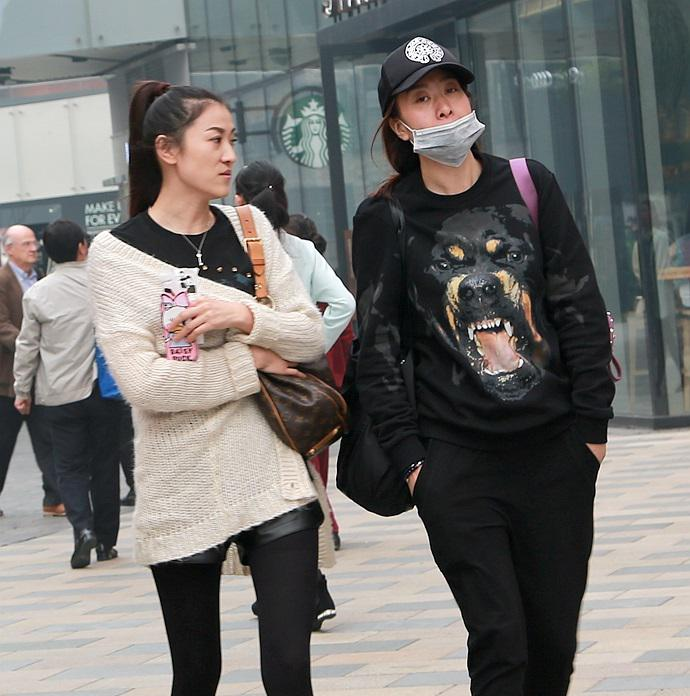NONE: (187, 126, 245, 194), (15, 236, 41, 266)
WRONG: (404, 71, 488, 155)
